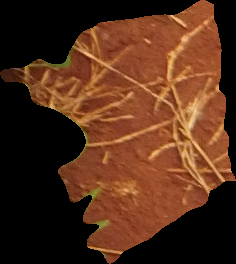soil: (1, 1, 235, 264)
